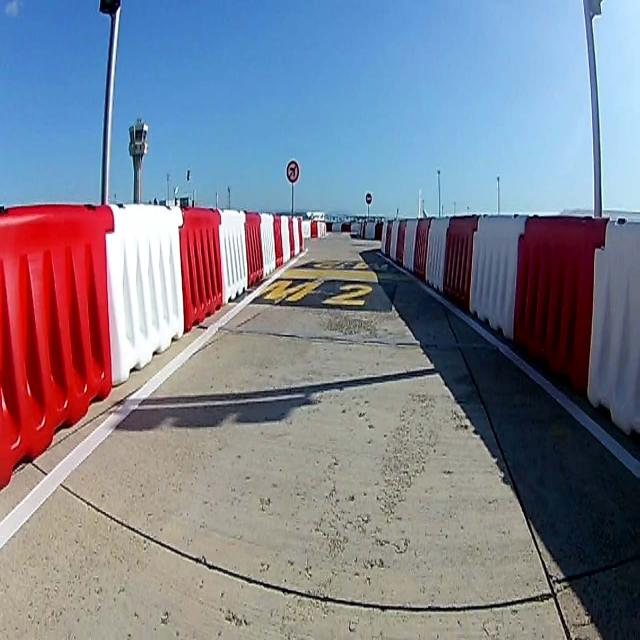soladonulmez: (286, 160, 299, 183)
